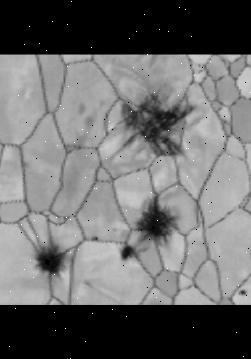good_void: (113, 85, 201, 165), (135, 193, 185, 242), (34, 239, 69, 277), (76, 116, 94, 145), (116, 240, 139, 259), (85, 233, 102, 243), (76, 102, 87, 113), (237, 287, 249, 297)
